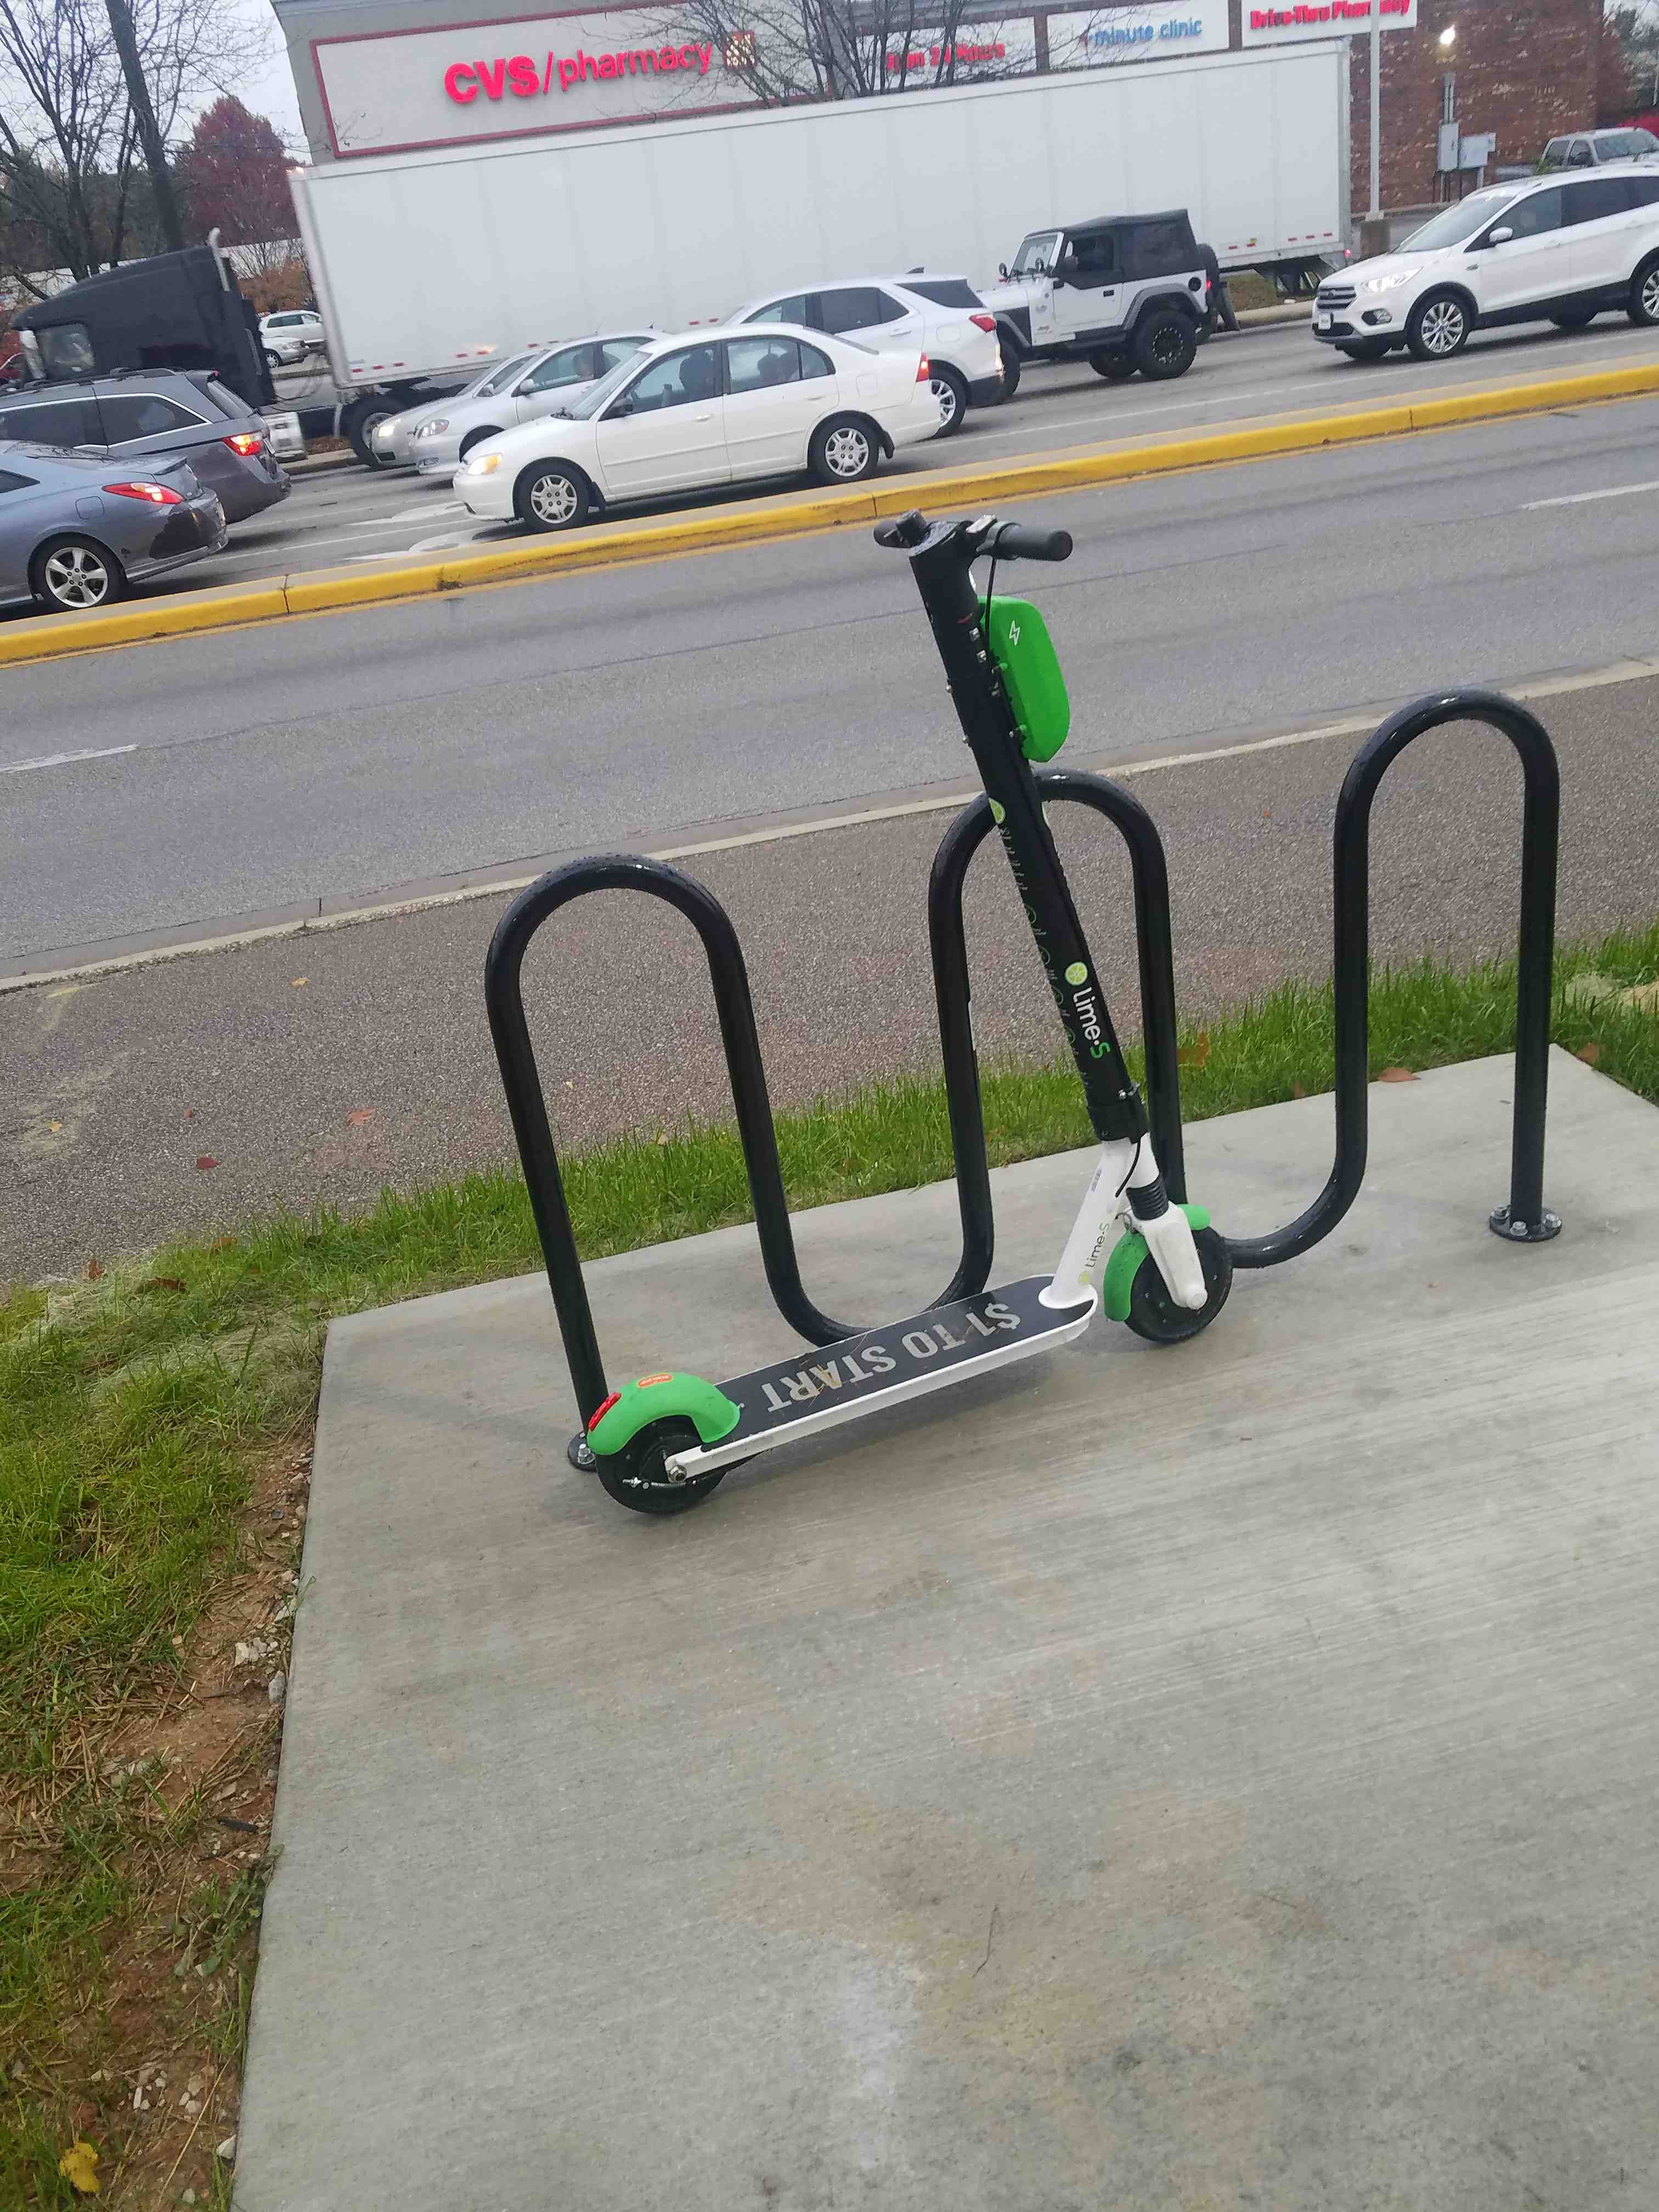scooter: (591, 451, 1232, 1576)
